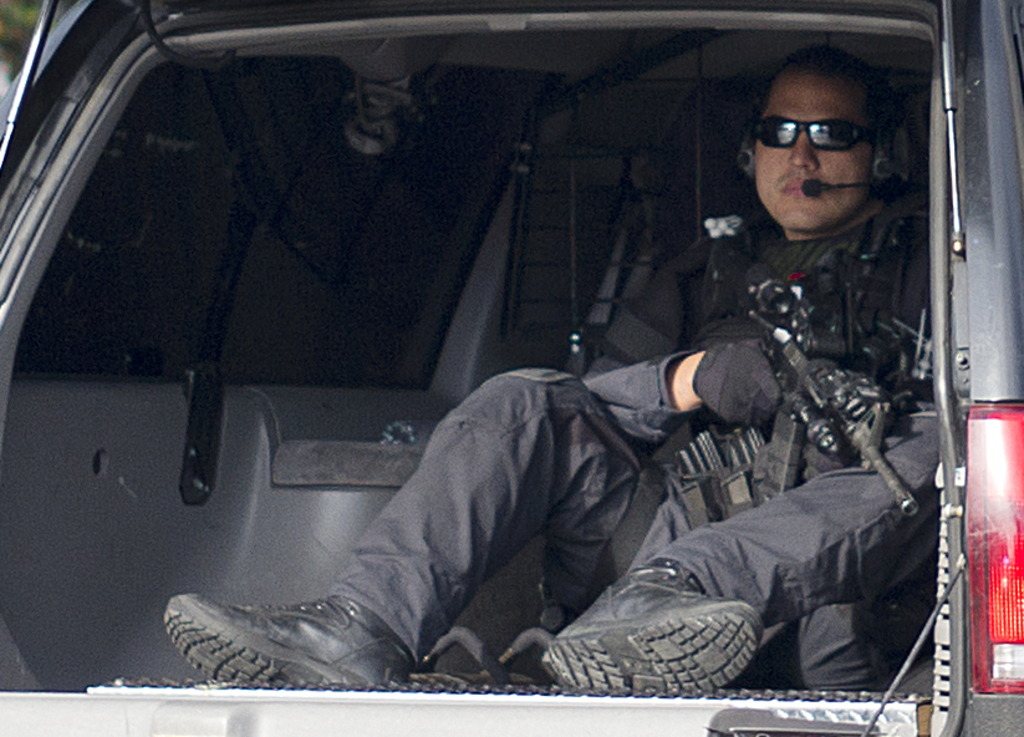Footwear: (542, 556, 765, 690), (163, 586, 414, 691)
